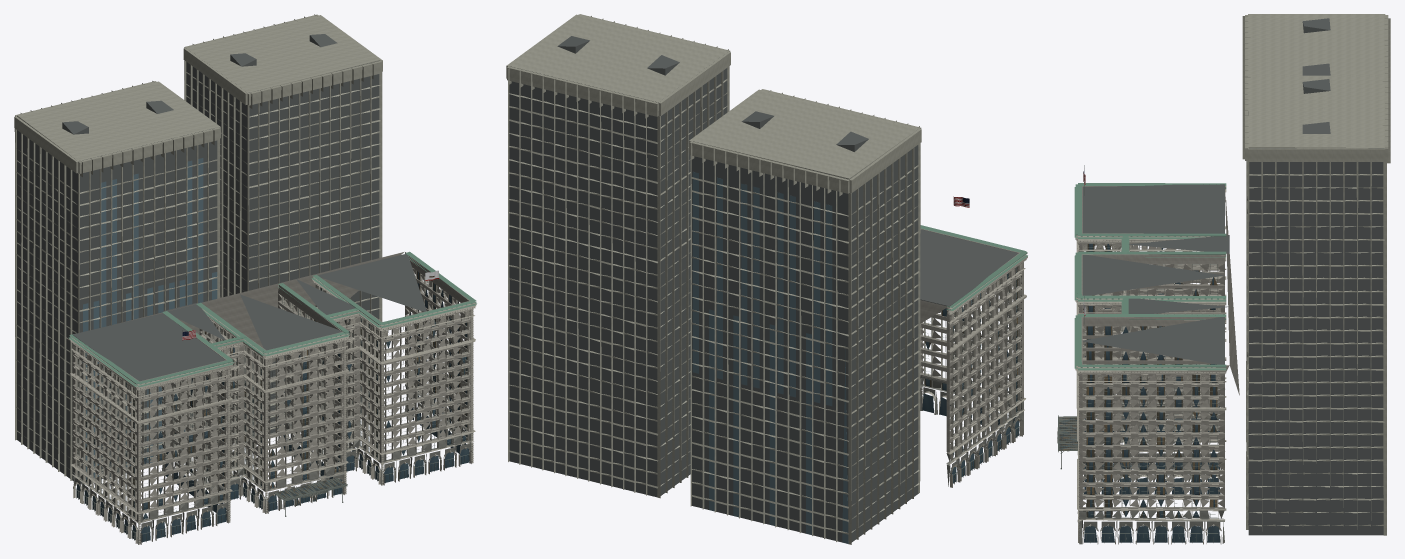
File: westin-lod.glb
3 views of the same model, side by side, from view 1: azimuth 30°, elevation 25°; view 2: azimuth 150°, elevation 25°; view 3: azimuth 270°, elevation 25° (orthographic). The views are drawn at different scales.
Visible parts, largest first — view 1: westin_towers / Westin / roof and shadow wells / distant, westin_towers / Westin / Pereira tower concrete / distant, westin_historic / Westin / gray rusticated sandstone / dista, westin_historic / Westin / carved limestone edges / distant, westin_historic / Westin / roof and shadow wells / distant, westin_historic / Westin / recessed reflected windows / dist, westin_historic / Westin / patinated architectural bronze / , westin_towers / Westin / dark tower glazing / distant, westin_historic / Westin / granite ground storey / distant, westin_historic / Westin / oxidized copper crown / distant; view 2: westin_towers / Westin / roof and shadow wells / distant, westin_towers / Westin / Pereira tower concrete / distant, westin_towers / Westin / dark tower glazing / distant, westin_historic / Westin / carved limestone edges / distant, westin_historic / Westin / gray rusticated sandstone / dista, westin_historic / Westin / roof and shadow wells / distant, westin_historic / Westin / recessed reflected windows / dist, westin_historic / Westin / patinated architectural bronze / , westin_historic / Westin / granite ground storey / distant, westin_historic / Westin / oxidized copper crown / distant; view 3: westin_towers / Westin / roof and shadow wells / distant, westin_towers / Westin / Pereira tower concrete / distant, westin_historic / Westin / gray rusticated sandstone / dista, westin_historic / Westin / roof and shadow wells / distant, westin_historic / Westin / carved limestone edges / distant, westin_historic / Westin / recessed reflected windows / dist, westin_historic / Westin / oxidized copper crown / distant, westin_historic / Westin / patinated architectural bronze / , westin_historic / Westin / granite ground storey / distant.
Part boxes in pixels (x1,y1,x2,y2): westin_towers / Westin / roof and shadow wells / distant: (17, 34, 379, 484); westin_towers / Westin / Pereira tower concrete / distant: (14, 14, 382, 480); westin_historic / Westin / gray rusticated sandstone / dista: (72, 252, 473, 512); westin_historic / Westin / carved limestone edges / distant: (69, 256, 476, 544); westin_historic / Westin / roof and shadow wells / distant: (72, 254, 426, 381); westin_historic / Westin / recessed reflected windows / dist: (76, 271, 469, 542); westin_historic / Westin / patinated architectural bronze / : (76, 271, 469, 542); westin_towers / Westin / dark tower glazing / distant: (83, 158, 217, 481); westin_historic / Westin / granite ground storey / distant: (73, 384, 473, 544); westin_historic / Westin / oxidized copper crown / distant: (68, 251, 476, 387); westin_towers / Westin / roof and shadow wells / distant: (509, 36, 918, 542); westin_towers / Westin / Pereira tower concrete / distant: (506, 14, 921, 544); westin_towers / Westin / dark tower glazing / distant: (692, 172, 848, 543); westin_historic / Westin / carved limestone edges / distant: (921, 254, 1027, 487); westin_historic / Westin / gray rusticated sandstone / dista: (920, 228, 1023, 452); westin_historic / Westin / roof and shadow wells / distant: (920, 229, 1018, 307); westin_historic / Westin / recessed reflected windows / dist: (922, 266, 1019, 483); westin_historic / Westin / patinated architectural bronze / : (924, 267, 1020, 484); westin_historic / Westin / granite ground storey / distant: (920, 376, 1023, 486); westin_historic / Westin / oxidized copper crown / distant: (920, 225, 1027, 310); westin_towers / Westin / roof and shadow wells / distant: (1248, 18, 1384, 535); westin_towers / Westin / Pereira tower concrete / distant: (1242, 14, 1390, 535); westin_historic / Westin / gray rusticated sandstone / dista: (1079, 186, 1239, 508); westin_historic / Westin / roof and shadow wells / distant: (1082, 184, 1229, 364); westin_historic / Westin / carved limestone edges / distant: (1057, 186, 1226, 544); westin_historic / Westin / recessed reflected windows / dist: (1059, 243, 1220, 542); westin_historic / Westin / oxidized copper crown / distant: (1074, 183, 1226, 370); westin_historic / Westin / patinated architectural bronze / : (1057, 165, 1218, 542); westin_historic / Westin / granite ground storey / distant: (1079, 332, 1224, 544).
Size of the model in its own units: 92.97 by 92.91 by 70.93.
Materials: 12 (6 with a texture image).
